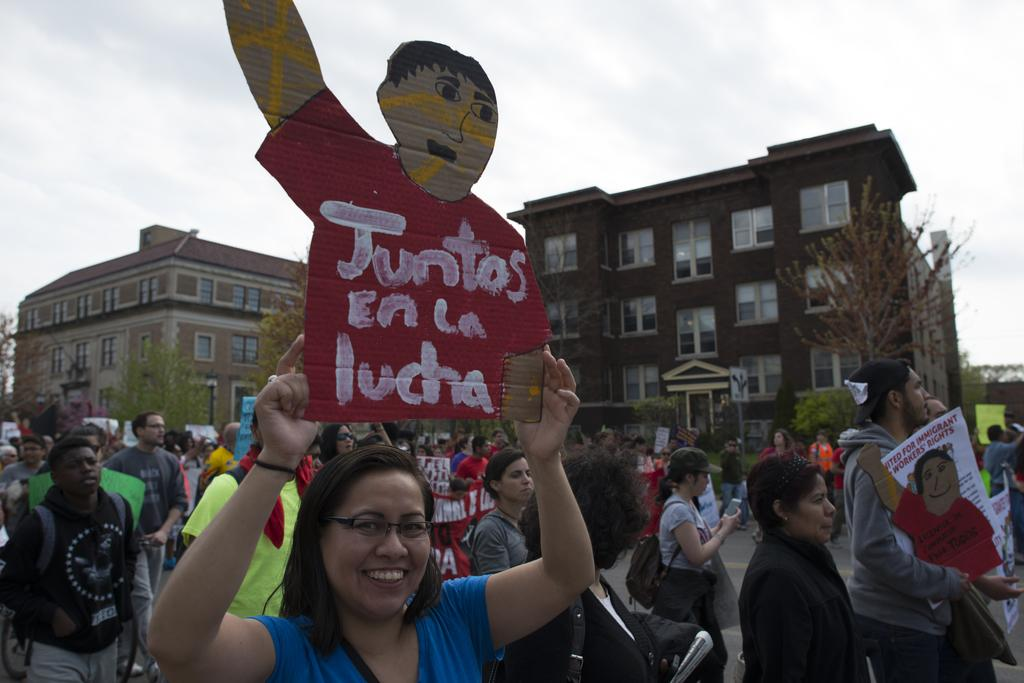Sem Máscara: (318, 468, 429, 615), (393, 64, 495, 179), (786, 472, 836, 544), (919, 455, 958, 515), (57, 445, 100, 490), (899, 365, 928, 423), (496, 456, 532, 500), (140, 411, 164, 444), (18, 437, 42, 462), (303, 442, 320, 471), (334, 424, 352, 451), (691, 470, 709, 495), (927, 398, 945, 423), (1, 445, 18, 463), (40, 434, 54, 450), (172, 439, 183, 459), (771, 431, 785, 445), (813, 430, 827, 443), (660, 443, 670, 461), (478, 438, 489, 454), (463, 432, 473, 449), (723, 437, 736, 450), (201, 444, 213, 458), (399, 440, 411, 454), (666, 435, 678, 449), (431, 444, 442, 458), (184, 434, 193, 450), (638, 438, 647, 453), (493, 429, 502, 442), (416, 443, 426, 454)
